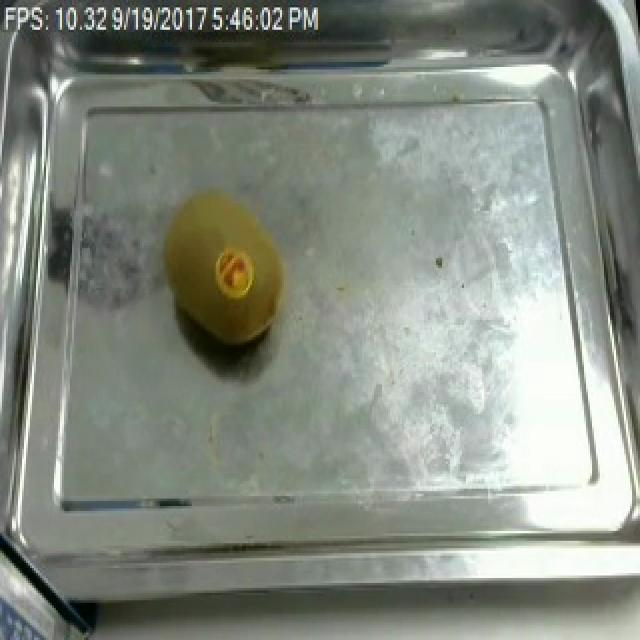Fruit: (154, 181, 296, 355)
